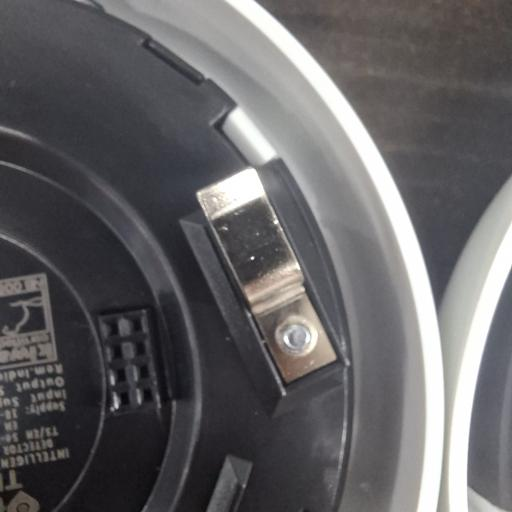yaysiz: (196, 170, 339, 383)
